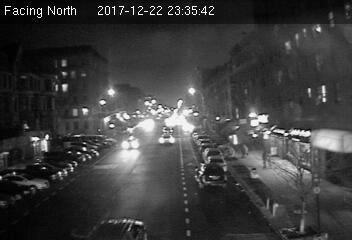car: (192, 162, 227, 190), (120, 135, 141, 150), (158, 133, 175, 146)
